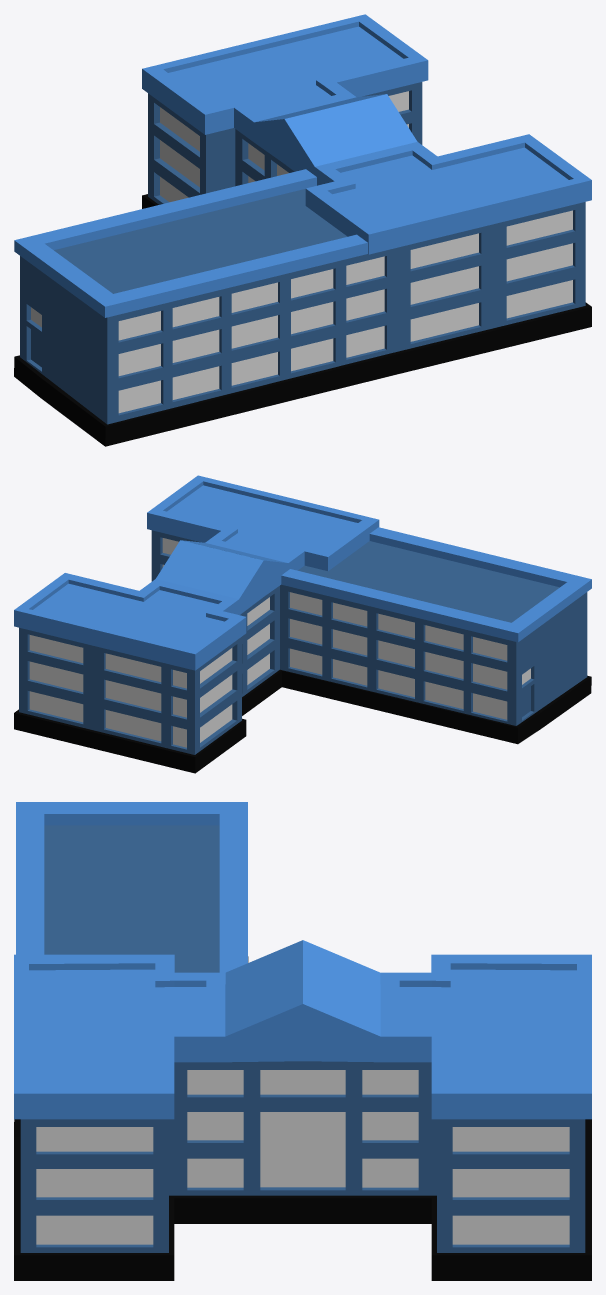
Rendered from school-model (1).fbx.
3 views of the same model, one above another, from view 1: azimuth 30°, elevation 25°; view 2: azimuth 150°, elevation 25°; view 3: azimuth 270°, elevation 25° (orthographic). The views are drawn at different scales.
Parts seen in each view (by area): view 1: Cube.001, Cube.002, Cube.005, Cube; view 2: Cube.001, Cube.002, Cube, Cube.005; view 3: Cube.001, Cube.002, Cube, Cube.005.
Boxes of the visible parts, x1,y1,x2,y2 form: Cube.001: (20,82,585,424); Cube.002: (142,14,591,254); Cube.005: (14,169,367,317); Cube: (14,194,591,446); Cube.001: (19,530,587,754); Cube.002: (14,475,379,670); Cube: (14,669,591,773); Cube.005: (281,527,591,642); Cube.001: (20,825,585,1252); Cube.002: (14,940,591,1119); Cube: (14,956,591,1280); Cube.005: (16,802,247,972).
Size of the model in its own units: 5067 by 1735 by 4084.
